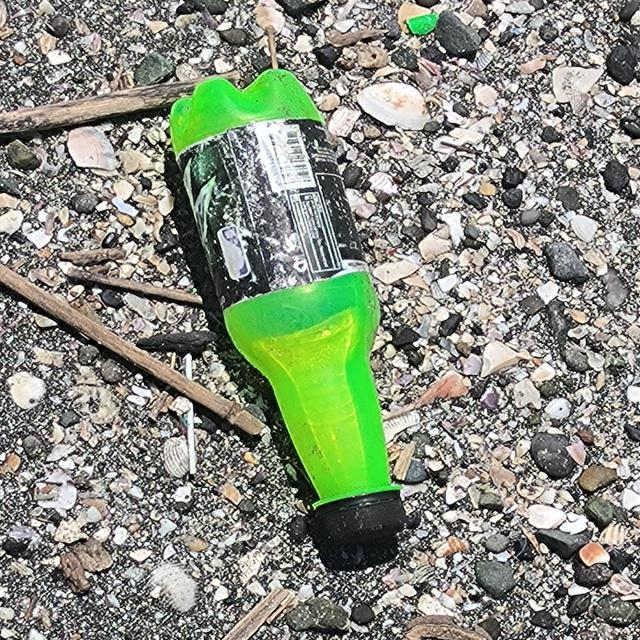plastic_waste: (168, 68, 410, 548)
